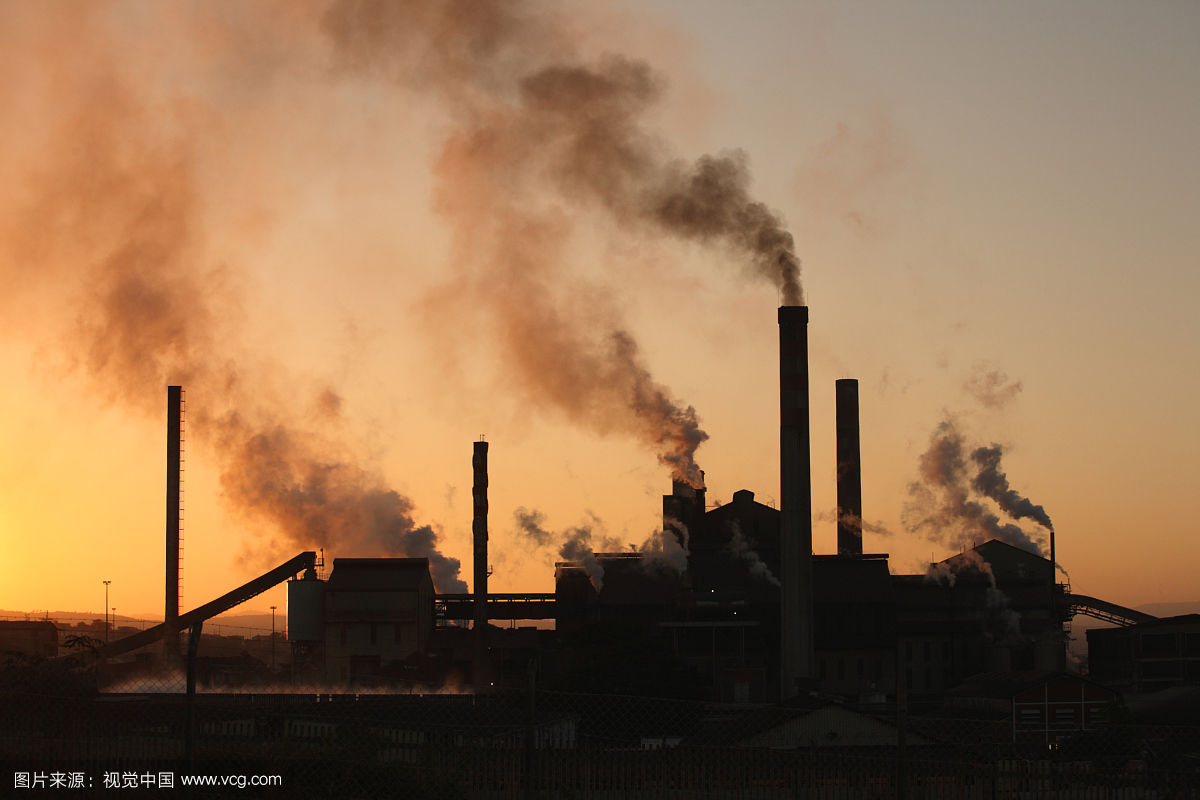dust: (239, 454, 493, 623), (643, 143, 843, 329), (573, 352, 728, 504)
